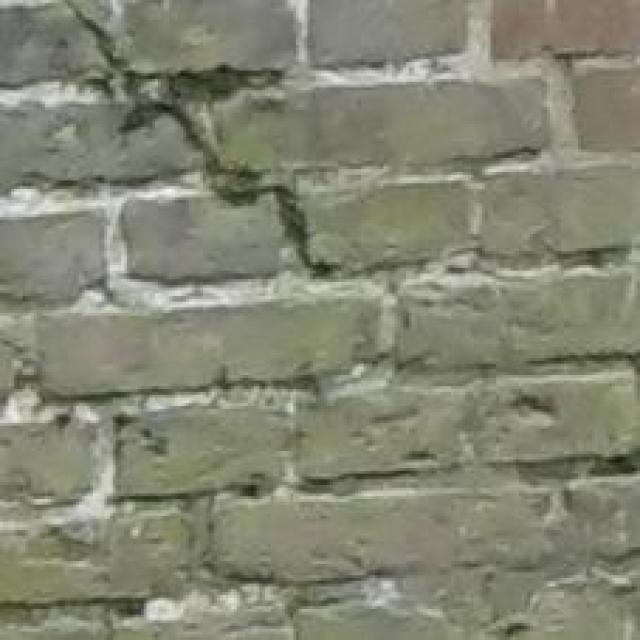Crack: (41, 0, 366, 317)
